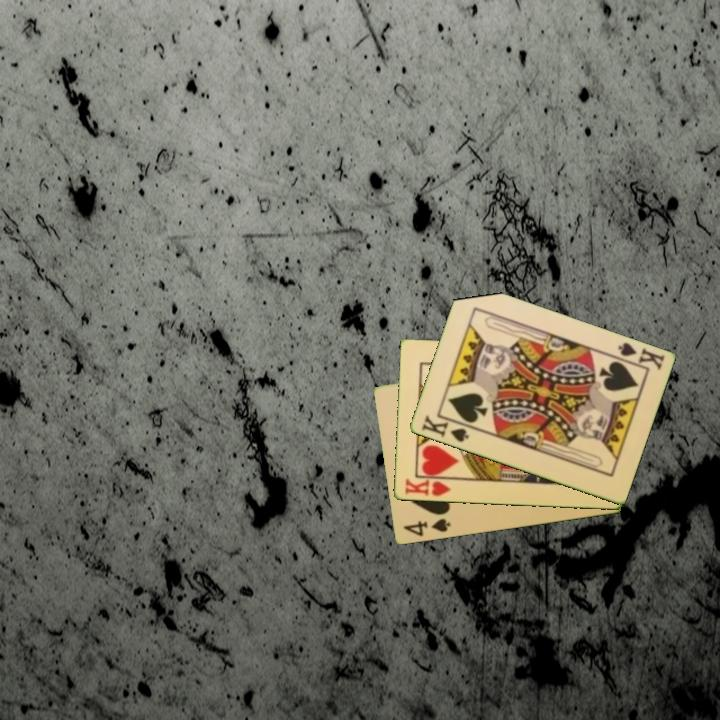4s: (399, 515, 453, 540)
Kh: (401, 474, 456, 500)
Ks: (610, 339, 667, 373), (418, 412, 474, 445)
